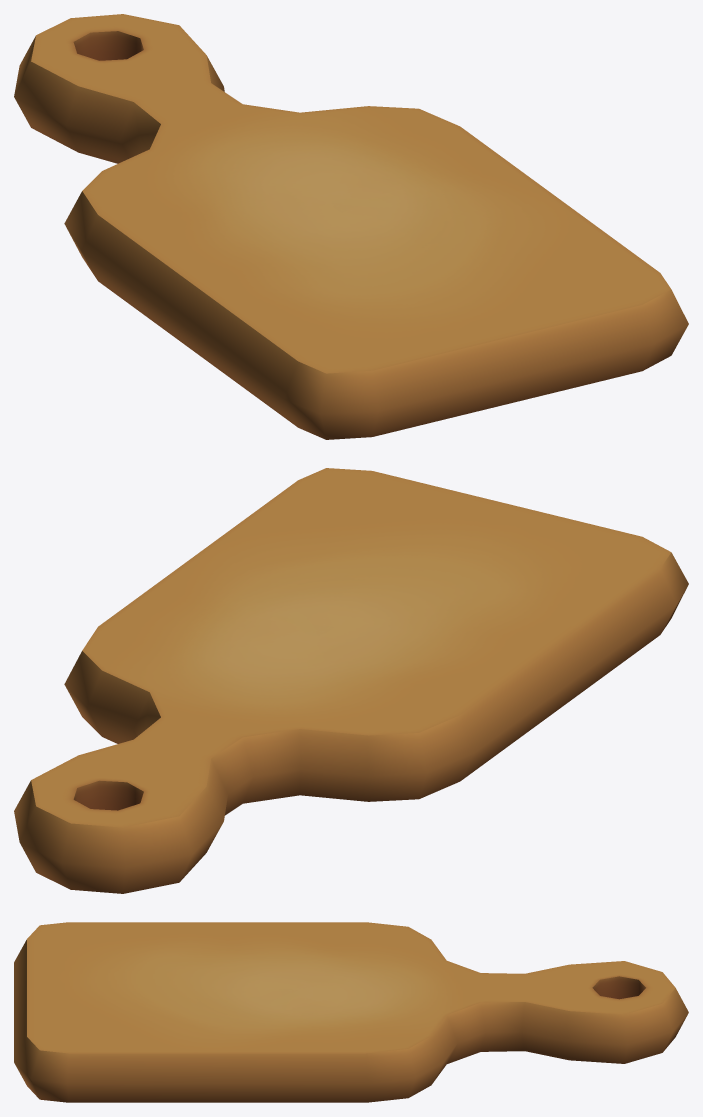
File: cutting_board_01.fbx
The picture shows the model from 3 angles, top to bottom: view 1: azimuth 30°, elevation 25°; view 2: azimuth 150°, elevation 25°; view 3: azimuth 270°, elevation 25°; orthographic projection. The views are drawn at different scales.
Visible parts, largest first — view 1: cutting_board_01_ready; view 2: cutting_board_01_ready; view 3: cutting_board_01_ready.
Boxes of the visible parts, x1=… form: cutting_board_01_ready: x1=14, y1=14, x2=688, y2=439; cutting_board_01_ready: x1=14, y1=468, x2=688, y2=893; cutting_board_01_ready: x1=14, y1=922, x2=688, y2=1102.
Bounding box in the file's own units: 34.28 × 5.53 × 68.66.
